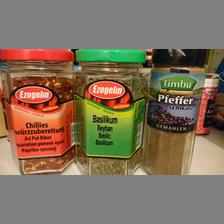Gewuerze: (74, 48, 146, 174), (0, 47, 72, 172), (142, 48, 206, 174)
